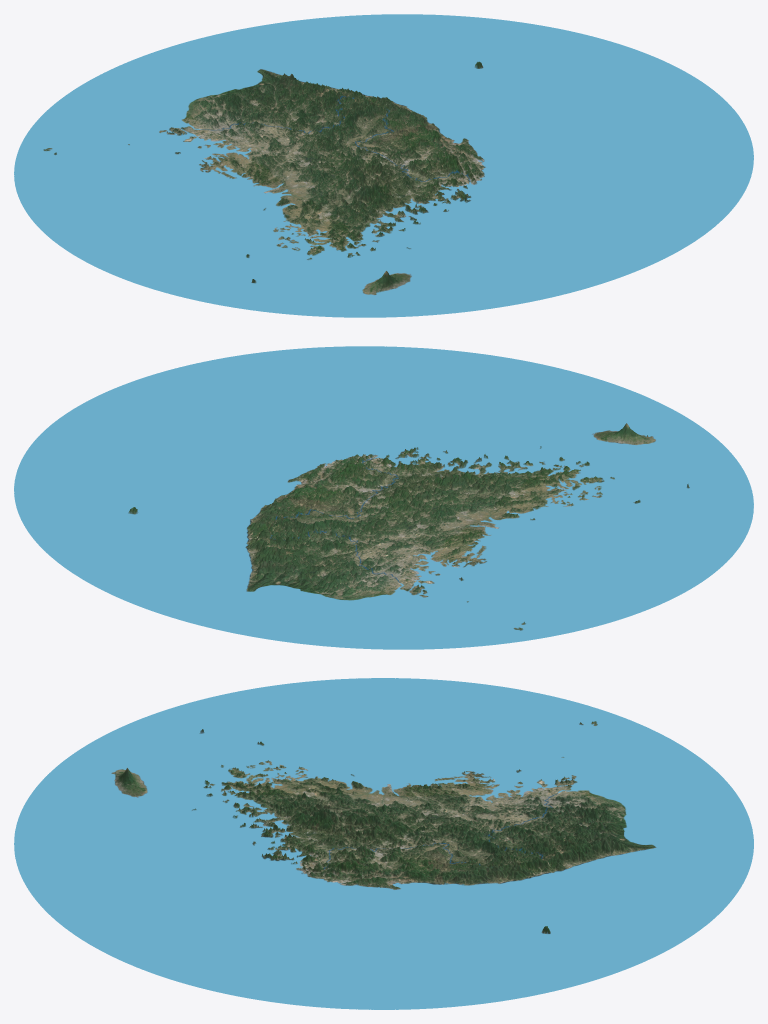
The model's file is KOR-previa-terrain.glb.
The picture shows the model from 3 angles, top to bottom: view 1: azimuth 30°, elevation 25°; view 2: azimuth 150°, elevation 25°; view 3: azimuth 270°, elevation 25°; orthographic projection. The views are drawn at different scales.
Visible parts, largest first — view 1: Coreia do Sul; view 2: Coreia do Sul; view 3: Coreia do Sul.
Boxes of the visible parts, x1,y1,x2,y2 form: Coreia do Sul: (14,14,753,317); Coreia do Sul: (14,346,753,649); Coreia do Sul: (14,678,753,1009).
Bounding box in the file's own units: 2.33 × 0.0498 × 2.2.
Materials: 1 (1 with a texture image).
